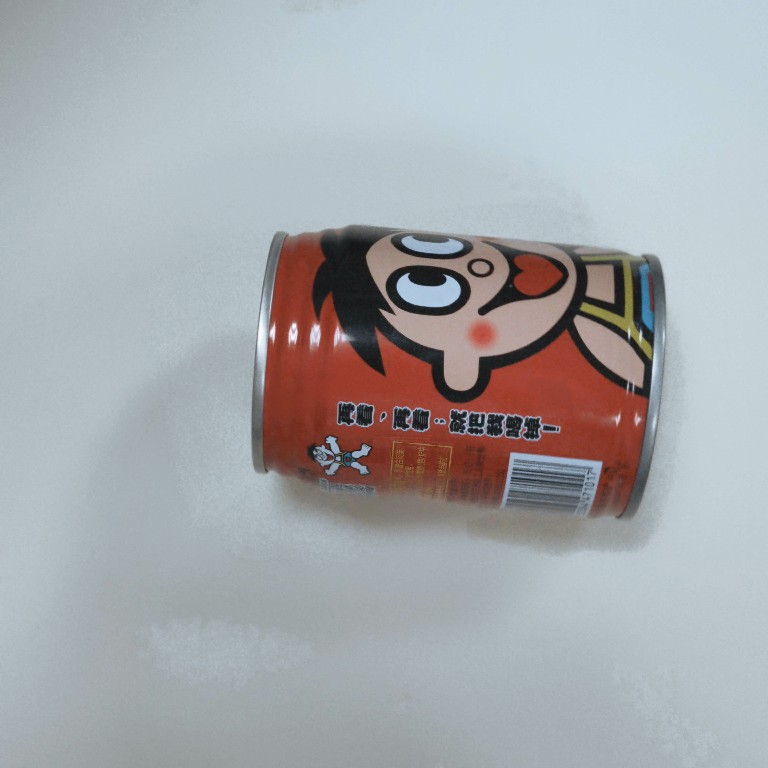can: (244, 217, 673, 525)
